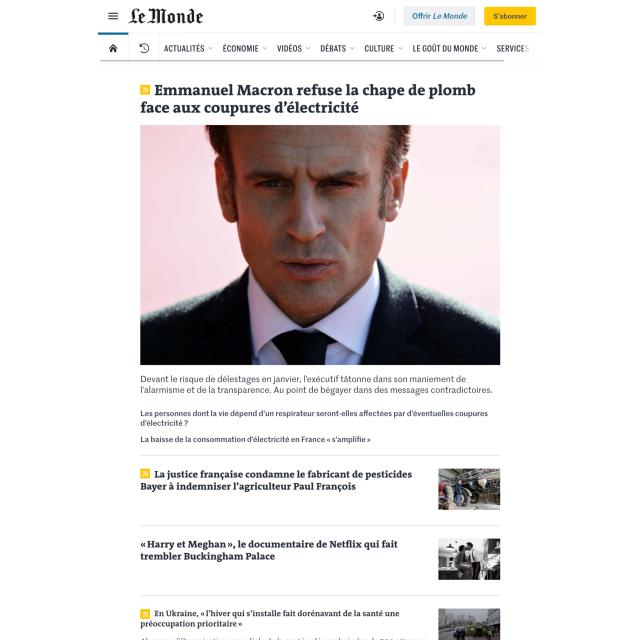CheckBox: (402, 5, 479, 28), (482, 4, 538, 28)
Input field: (137, 371, 498, 450)
accordion: (97, 29, 548, 36), (94, 56, 509, 62), (393, 6, 398, 24)
alert: (412, 42, 487, 54), (162, 40, 216, 54), (220, 42, 268, 54), (363, 41, 405, 53), (275, 41, 313, 54), (320, 41, 358, 54)
bag: (1, 1, 640, 64)
breadcrumbs: (134, 534, 405, 564)
carousel: (104, 8, 121, 23), (134, 42, 152, 56), (371, 8, 386, 23), (104, 41, 120, 55), (139, 608, 152, 620), (138, 84, 152, 95), (139, 468, 151, 480)
copy: (139, 124, 500, 364), (437, 468, 501, 511), (438, 538, 502, 580), (439, 608, 501, 640)
data feed: (411, 11, 471, 22), (491, 10, 532, 21)
date picker: (126, 4, 210, 28)
decoration: (96, 41, 542, 57), (105, 10, 120, 22)
image: (137, 80, 482, 118)
